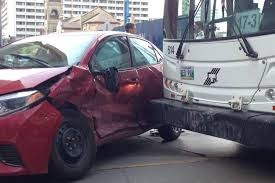Dent: (42, 66, 153, 148)
